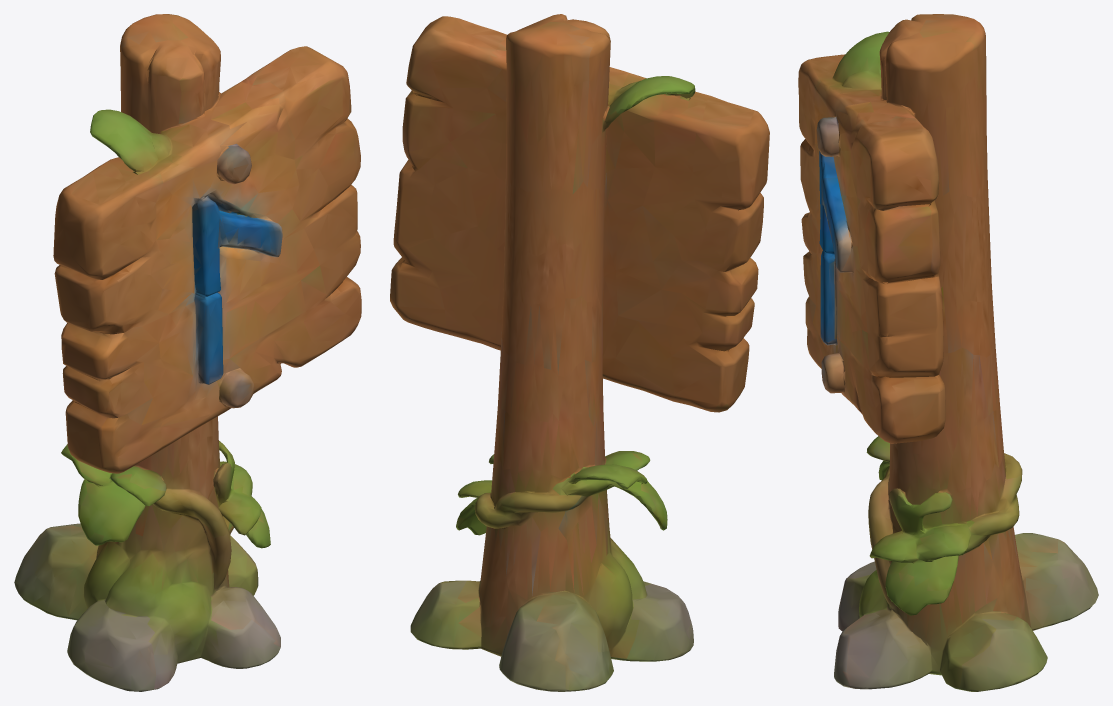
Rendered from cartel_runa_azul.glb.
3 renders of one model, left to right at view 1: azimuth 30°, elevation 25°; view 2: azimuth 150°, elevation 25°; view 3: azimuth 270°, elevation 25°, orthographic. The views are drawn at different scales.
Visible parts, largest first — view 1: cartel_runa_azul_malla; view 2: cartel_runa_azul_malla; view 3: cartel_runa_azul_malla.
Part boxes in pixels (x1=…): cartel_runa_azul_malla: x1=14, y1=14, x2=361, y2=691; cartel_runa_azul_malla: x1=390, y1=14, x2=769, y2=691; cartel_runa_azul_malla: x1=798, y1=14, x2=1098, y2=691.
Bounding box in the file's own units: 0.1589 × 0.2867 × 0.1235.
1 material, 1 textured.
